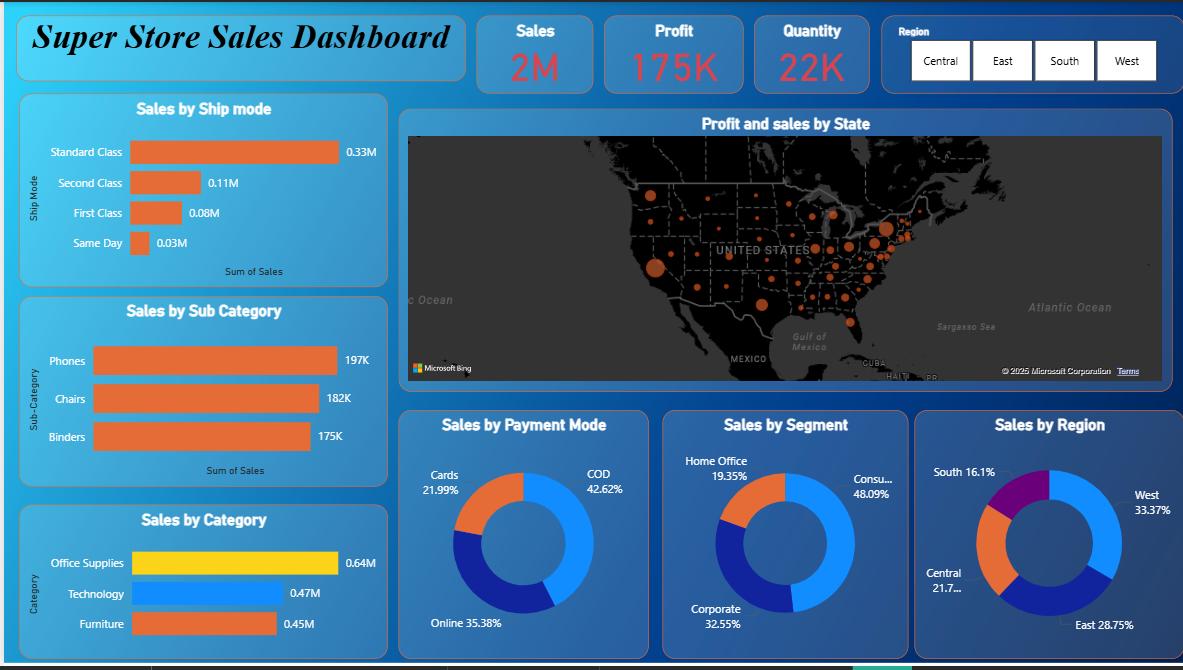

This screenshot's page, from the dashboard's own definition file:
{"tool":"powerbi","page":{"name":"Super Store Sales Dashboard","canvas":[1280,720],"ordinal":0},"visuals":[{"type":"clusteredBarChart","title":"Sales by Category","fields":{"Category":["SuperStore_Sales_Dataset (2).Category"],"Y":["Sum(SuperStore_Sales_Dataset (2).Sales)"]},"box":[16.3,544.9,400.1,167.5],"z":0},{"type":"clusteredBarChart","title":"Sales by Sub Category","fields":{"Category":["SuperStore_Sales_Dataset (2).Sub-Category"],"Y":["Sum(SuperStore_Sales_Dataset (2).Sales)"]},"box":[16.3,318.8,400.1,206.6],"z":1000},{"type":"clusteredBarChart","title":"Sales by Ship mode","fields":{"Category":["SuperStore_Sales_Dataset (2).Ship Mode"],"Y":["Sum(SuperStore_Sales_Dataset (2).Sales)"]},"box":[16.3,99.2,400.1,209.8],"z":2000},{"type":"map","title":"Profit and sales by State","fields":{"Category":["SuperStore_Sales_Dataset (2).State"],"Size":["Sum(SuperStore_Sales_Dataset (2).Sales)"]},"box":[427.8,115.5,839.3,307.4],"z":3000},{"type":"donutChart","title":"Sales by Segment","fields":{"Category":["SuperStore_Sales_Dataset (2).Segment"],"Y":["Sum(SuperStore_Sales_Dataset (2).Sales)"]},"box":[714.1,442.4,266.8,270],"z":4000},{"type":"donutChart","title":"Sales by Payment Mode","fields":{"Category":["SuperStore_Sales_Dataset (2).Payment Mode"],"Y":["Sum(SuperStore_Sales_Dataset (2).Sales)"]},"box":[427.8,442.4,271.6,270],"z":5000},{"type":"slicer","fields":{"Values":["SuperStore_Sales_Dataset (2).Region"]},"box":[951.5,14.6,328.6,84.6],"z":6000},{"type":"textbox","box":[13,14.6,488,71.6],"z":7000},{"type":"card","title":"Sales","fields":{"Values":["Sum(SuperStore_Sales_Dataset (2).Sales)"]},"box":[512.4,14.6,126.9,84.6],"z":8000},{"type":"card","title":"Quantity","fields":{"Values":["Sum(SuperStore_Sales_Dataset (2).Quantity)"]},"box":[813.3,14.6,125.2,84.6],"z":9000},{"type":"card","title":"Profit","fields":{"Values":["Sum(SuperStore_Sales_Dataset (2).Profit)"]},"box":[650.6,14.6,151.3,84.6],"z":10000},{"type":"donutChart","title":" Sales by Region","fields":{"Y":["Sum(SuperStore_Sales_Dataset (2).Sales)"],"Category":["SuperStore_Sales_Dataset (2).Region"]},"box":[987.3,442.4,292.8,270],"z":12000}]}

Visuals, with their boxes in screenshot pixels (x1, y1, x2, y2), scaled from the page's 1280x720 canvas onto the 1183x670 screenshot:
"Sales by Category" clusteredBarChart: <region>15, 507, 385, 663</region>
"Sales by Sub Category" clusteredBarChart: <region>15, 297, 385, 489</region>
"Sales by Ship mode" clusteredBarChart: <region>15, 92, 385, 288</region>
"Profit and sales by State" map: <region>395, 107, 1171, 394</region>
"Sales by Segment" donutChart: <region>660, 412, 907, 663</region>
"Sales by Payment Mode" donutChart: <region>395, 412, 646, 663</region>
slicer - SuperStore_Sales_Dataset (2).Region: <region>879, 14, 1182, 92</region>
textbox: <region>12, 14, 463, 80</region>
"Sales" card: <region>474, 14, 591, 92</region>
"Quantity" card: <region>752, 14, 867, 92</region>
"Profit" card: <region>601, 14, 741, 92</region>
" Sales by Region" donutChart: <region>912, 412, 1182, 663</region>
